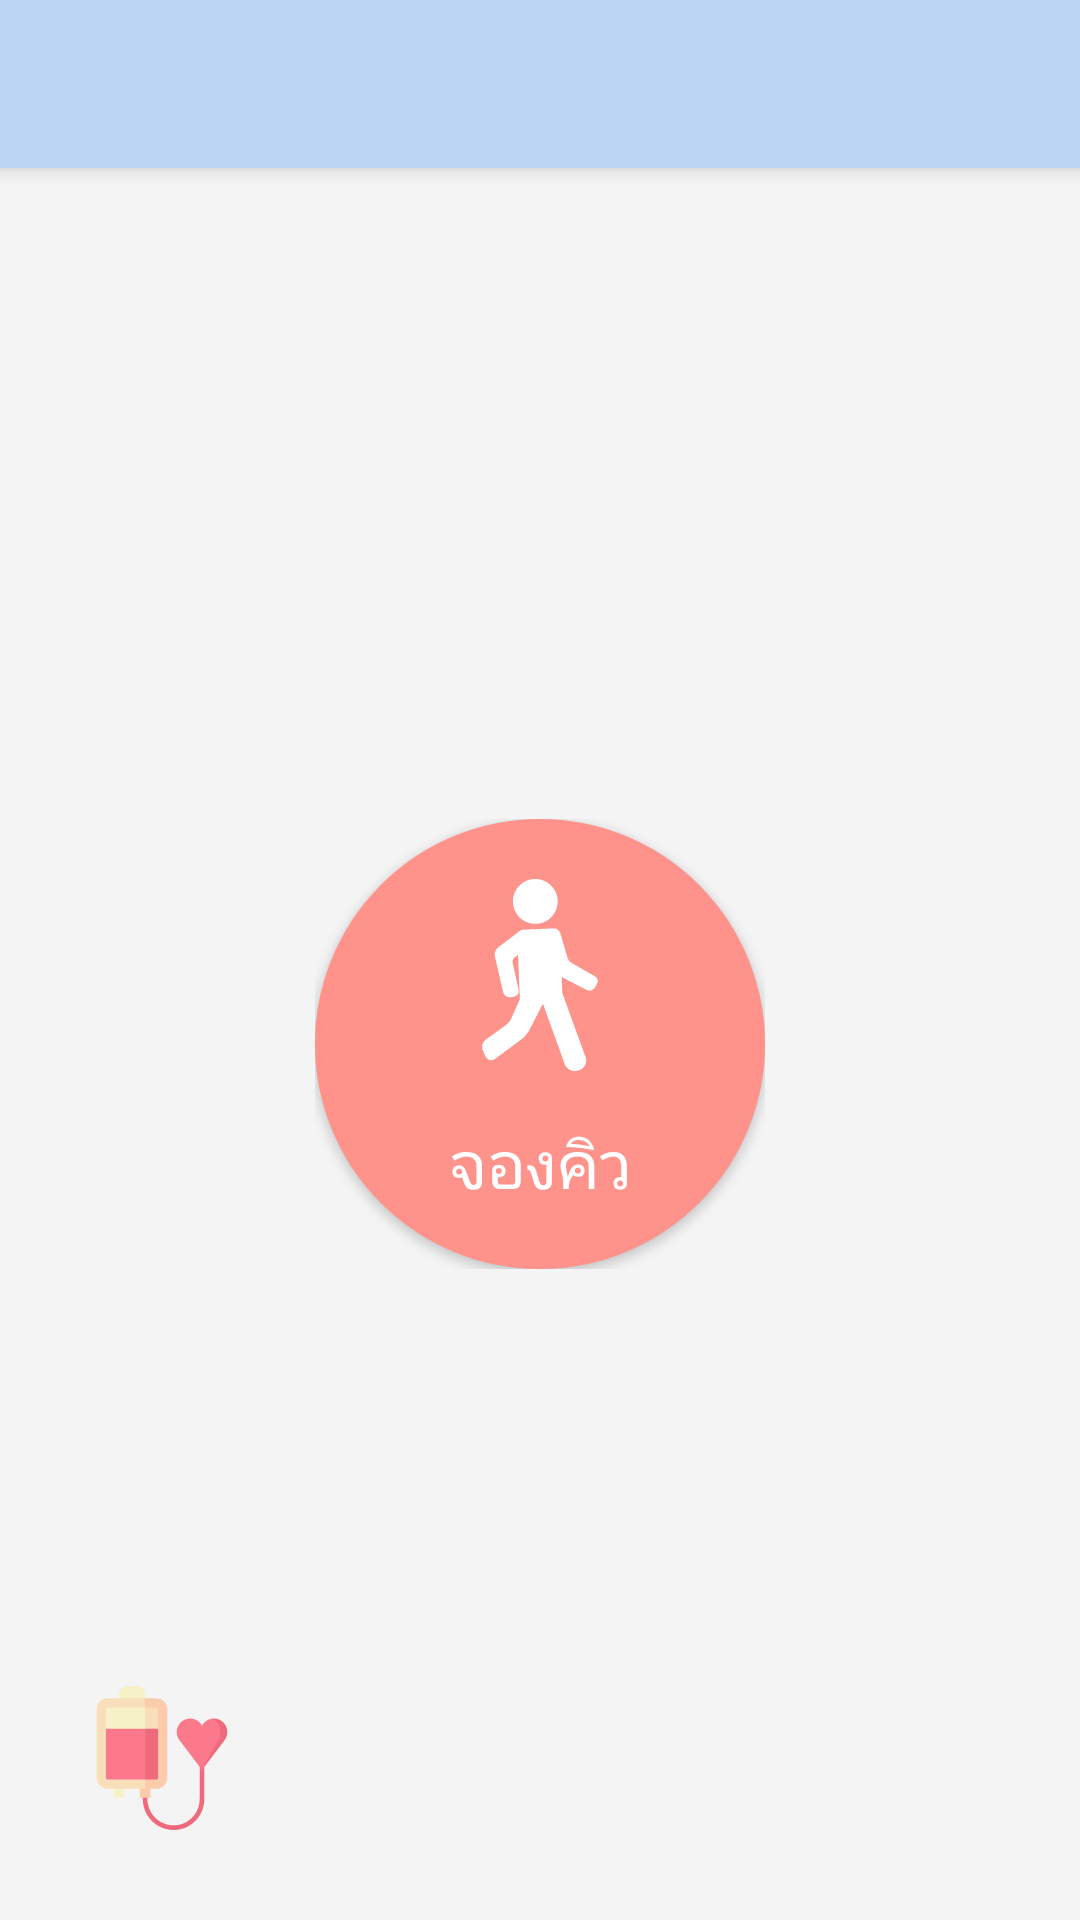

Where to tap for icons on this 1080w x 1920h app screen, as (x=x, y=y):
medical: (x=162, y=1758)
